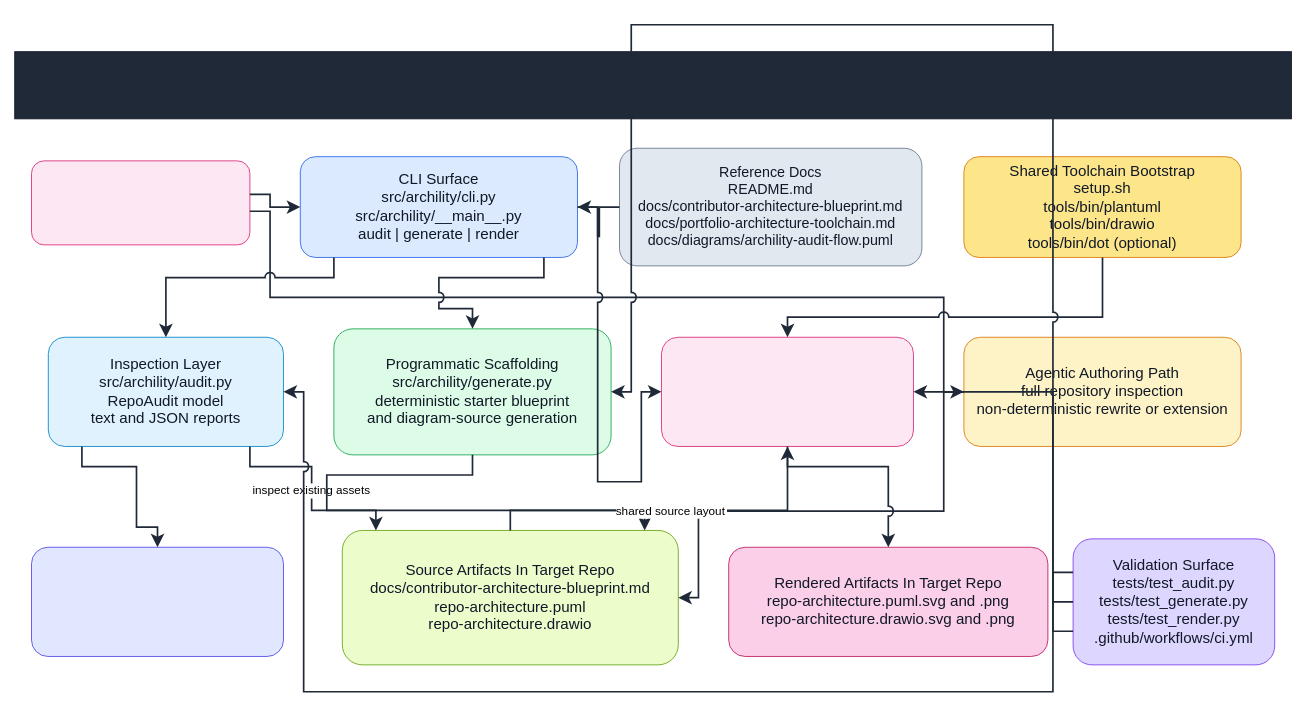
Some shapes in this 1306 by 717 pixel diagram are drawn without their labels. Here are the shapes that lost their labels. From the top down, the centre of each, then its label:
the point at 653,85: archility Repository Architecture
the point at 140,202: Portfolio Maintainer or AI Agent invokes repo lifecycle
the point at 787,391: Render Orchestration src/archility/render.py shared render plan and execution
the point at 157,601: Audit Reports baseline coverage toolchain hints next-step recommendations
